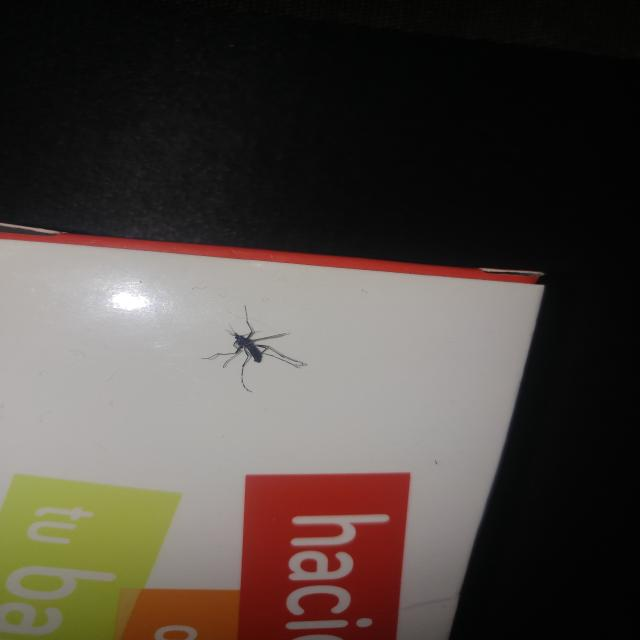albopictus: (193, 304, 309, 393)
